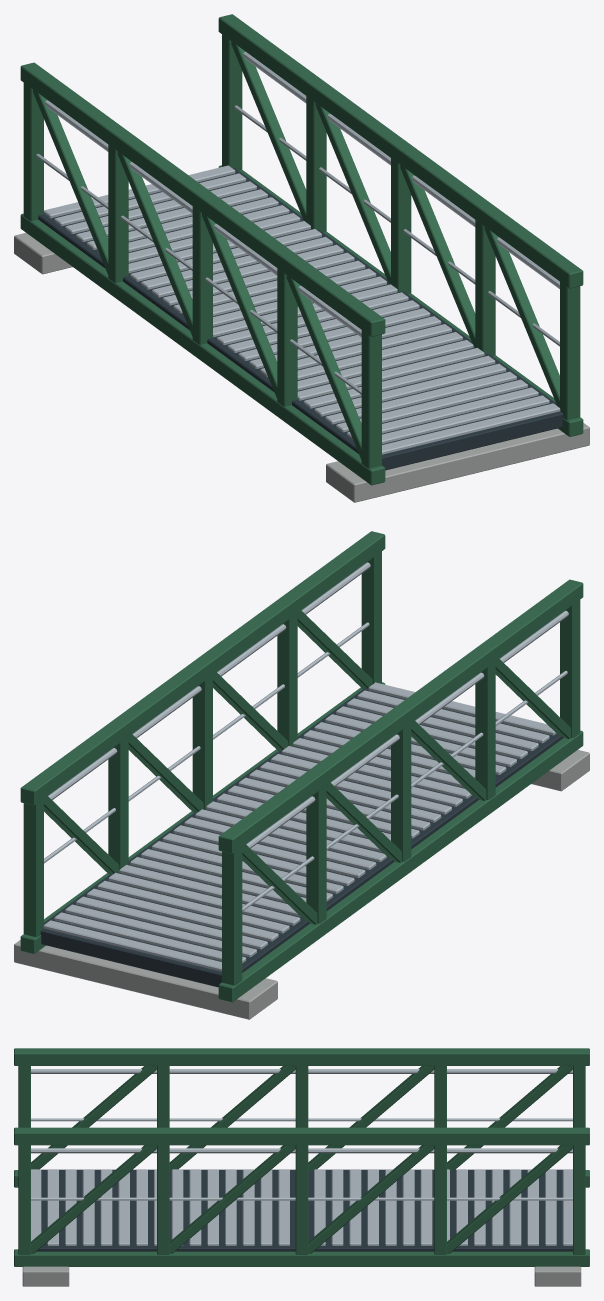
File: b13_steel_through_truss_footbridge.glb
The picture shows the model from 3 angles, top to bottom: view 1: azimuth 30°, elevation 25°; view 2: azimuth 150°, elevation 25°; view 3: azimuth 270°, elevation 25°; orthographic projection. The views are drawn at different scales.
Visible parts, largest first — view 1: b13_steel_through_truss_footbridge; view 2: b13_steel_through_truss_footbridge; view 3: b13_steel_through_truss_footbridge.
Boxes of the visible parts, bbox=[...] form: b13_steel_through_truss_footbridge: bbox=[14, 14, 589, 502]; b13_steel_through_truss_footbridge: bbox=[14, 531, 589, 1019]; b13_steel_through_truss_footbridge: bbox=[14, 1048, 589, 1286].
Size of the model in its own units: 2.1 by 1.54 by 5.4.
